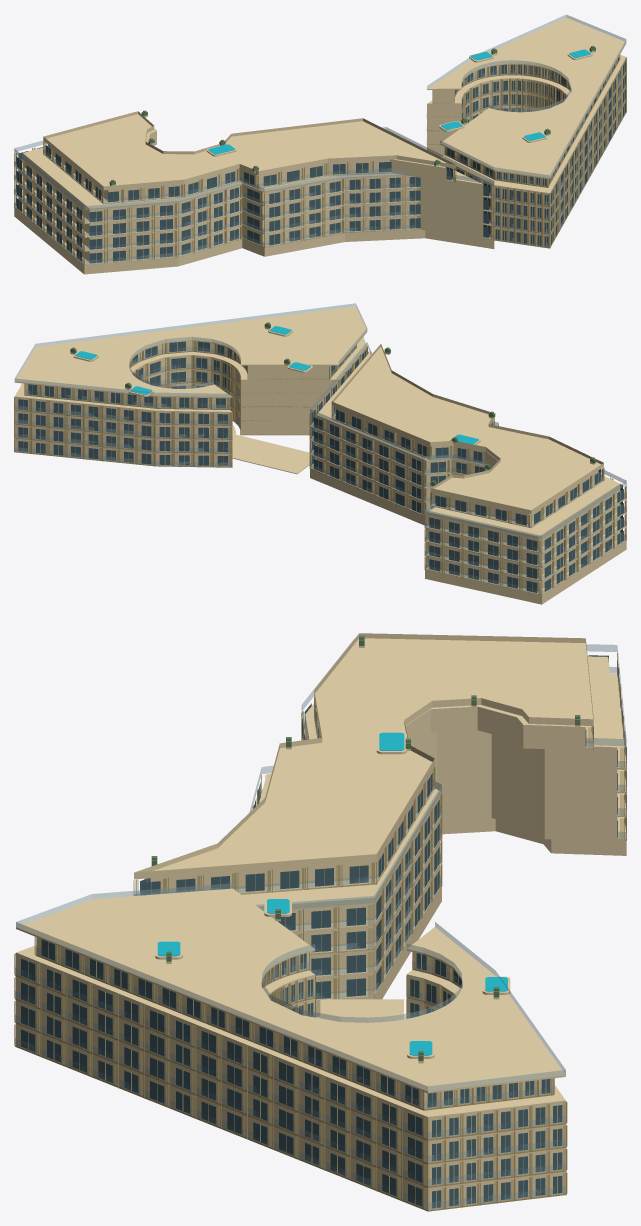
File: scirocco.glb
3 renders of one model, top to bottom at view 1: azimuth 30°, elevation 25°; view 2: azimuth 150°, elevation 25°; view 3: azimuth 270°, elevation 25°, orthographic. The views are drawn at different scales.
Parts seen in each view (by area): view 1: Westfluegel mit Gartenfront, Ostbloecke mit Sackgasse; view 2: Westfluegel mit Gartenfront, Ostbloecke mit Sackgasse, Innenhof und Pflanzbeete; view 3: Ostbloecke mit Sackgasse, Westfluegel mit Gartenfront, Innenhof und Pflanzbeete.
Part boxes in pixels (box(x1,y1,x2,y2)): Westfluegel mit Gartenfront: box(14, 110, 494, 274); Ostbloecke mit Sackgasse: box(426, 14, 626, 248); Westfluegel mit Gartenfront: box(309, 342, 626, 604); Ostbloecke mit Sackgasse: box(14, 303, 367, 467); Innenhof und Pflanzbeete: box(232, 425, 316, 474); Ostbloecke mit Sackgasse: box(14, 883, 567, 1211); Westfluegel mit Gartenfront: box(133, 633, 626, 1016); Innenhof und Pflanzbeete: box(320, 999, 403, 1022).
Bounding box in the file's own units: 133 × 19.05 × 73.01.
